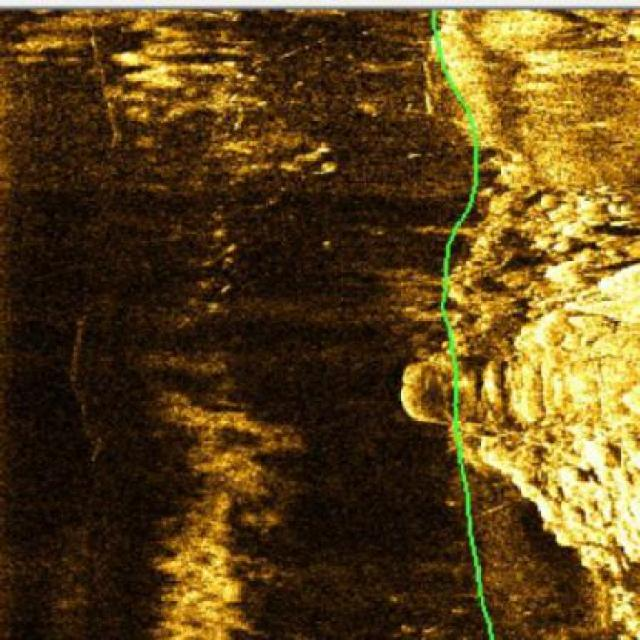bedrock group: (393, 0, 638, 638)
